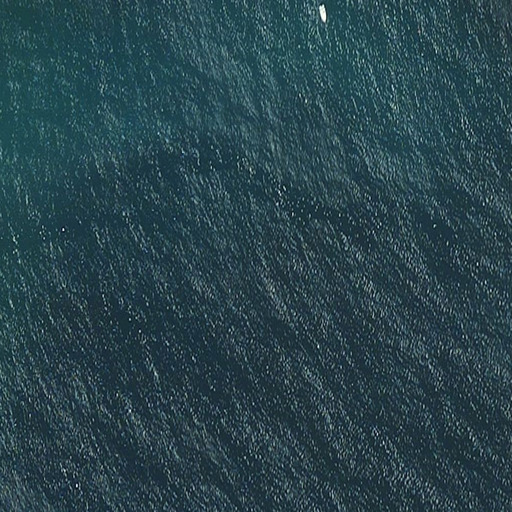ship: (317, 3, 330, 25)
